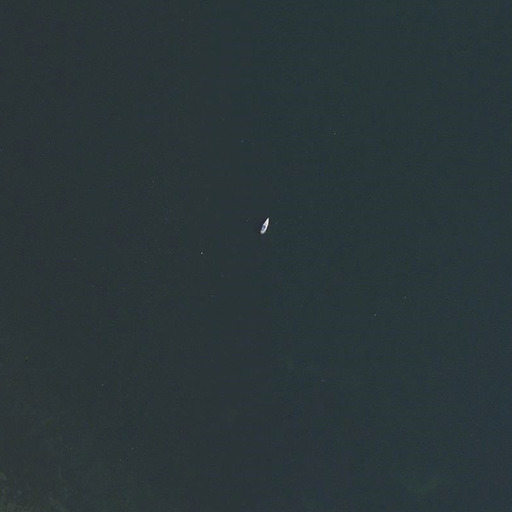ship: (260, 218, 271, 233)
